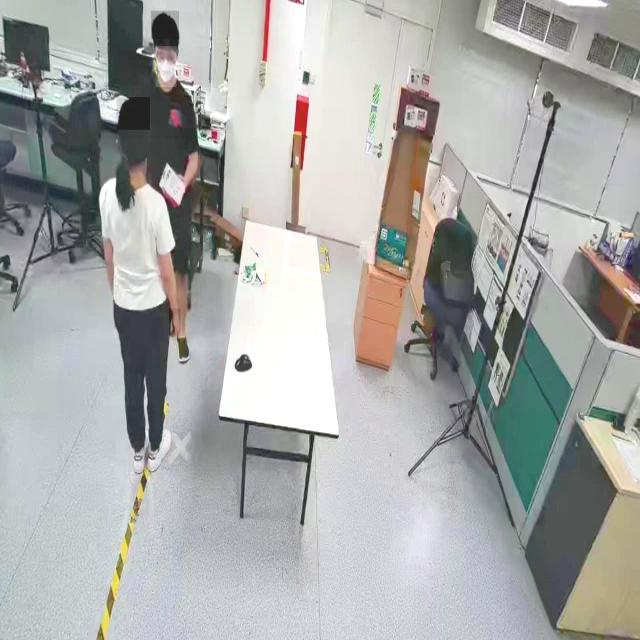face_mask: (155, 46, 177, 88)
hand_noglove: (169, 308, 181, 342), (175, 170, 187, 194)
head_nohelmet: (116, 97, 150, 131), (151, 11, 179, 40)
person: (96, 139, 185, 469), (151, 12, 203, 218)
shoes: (144, 424, 174, 476), (172, 320, 194, 373), (130, 426, 149, 477)
